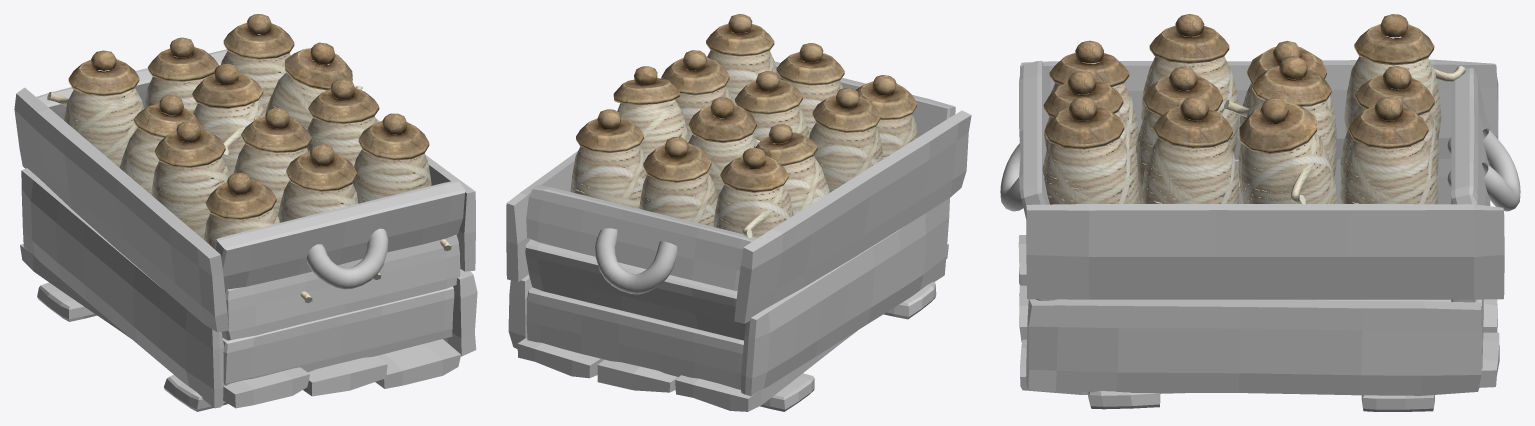
3 views of the same model, side by side, from view 1: azimuth 30°, elevation 25°; view 2: azimuth 150°, elevation 25°; view 3: azimuth 270°, elevation 25° (orthographic). The views are drawn at different scales.
Visible parts, largest first — view 1: SM_Dec_Garou_Chest_Thread_Coarse_Small_LOD0; view 2: SM_Dec_Garou_Chest_Thread_Coarse_Small_LOD0; view 3: SM_Dec_Garou_Chest_Thread_Coarse_Small_LOD0.
Part boxes in pixels (bbox=[...]): SM_Dec_Garou_Chest_Thread_Coarse_Small_LOD0: bbox=[14, 14, 477, 411]; SM_Dec_Garou_Chest_Thread_Coarse_Small_LOD0: bbox=[506, 14, 971, 411]; SM_Dec_Garou_Chest_Thread_Coarse_Small_LOD0: bbox=[1000, 14, 1520, 411].
Size of the model in its own units: 0.6922 by 0.604 by 0.9929.
